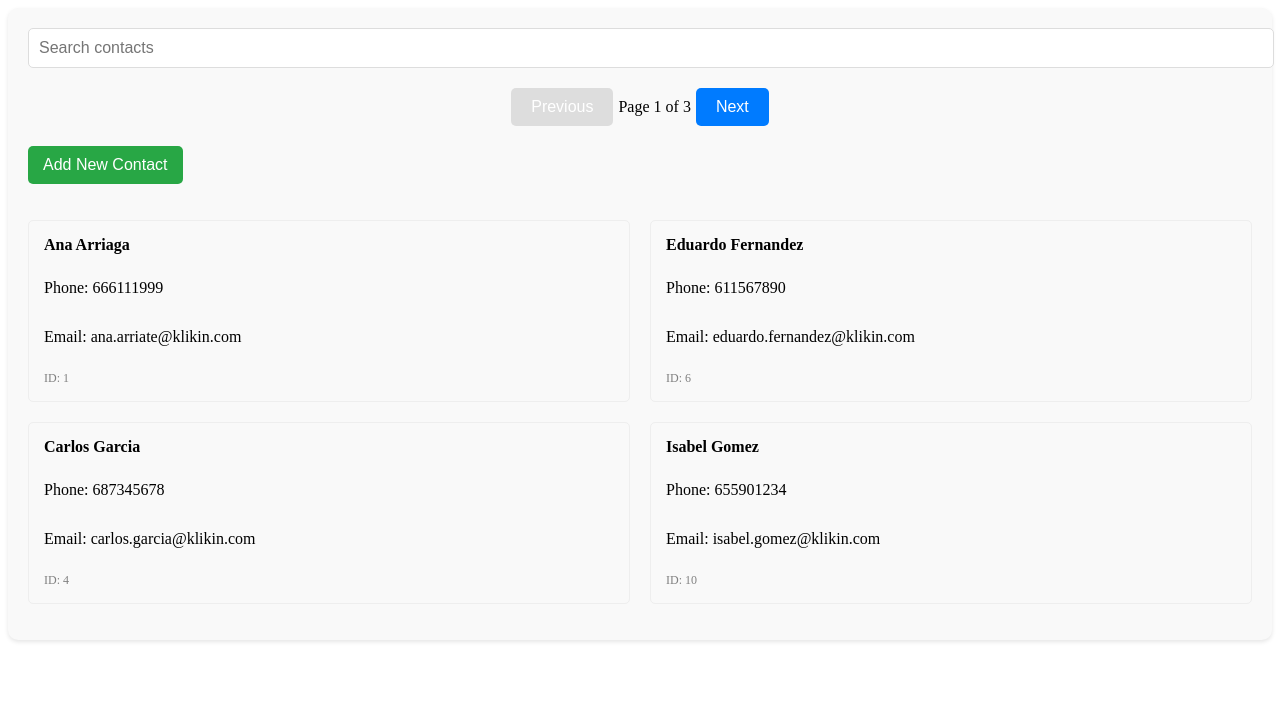
Contact List › allows closing the add contact dialog
This screenshot has width=1280, height=720.
Click the button with class "contact-list__dialog-button": (106, 165) [28,146,183,184]
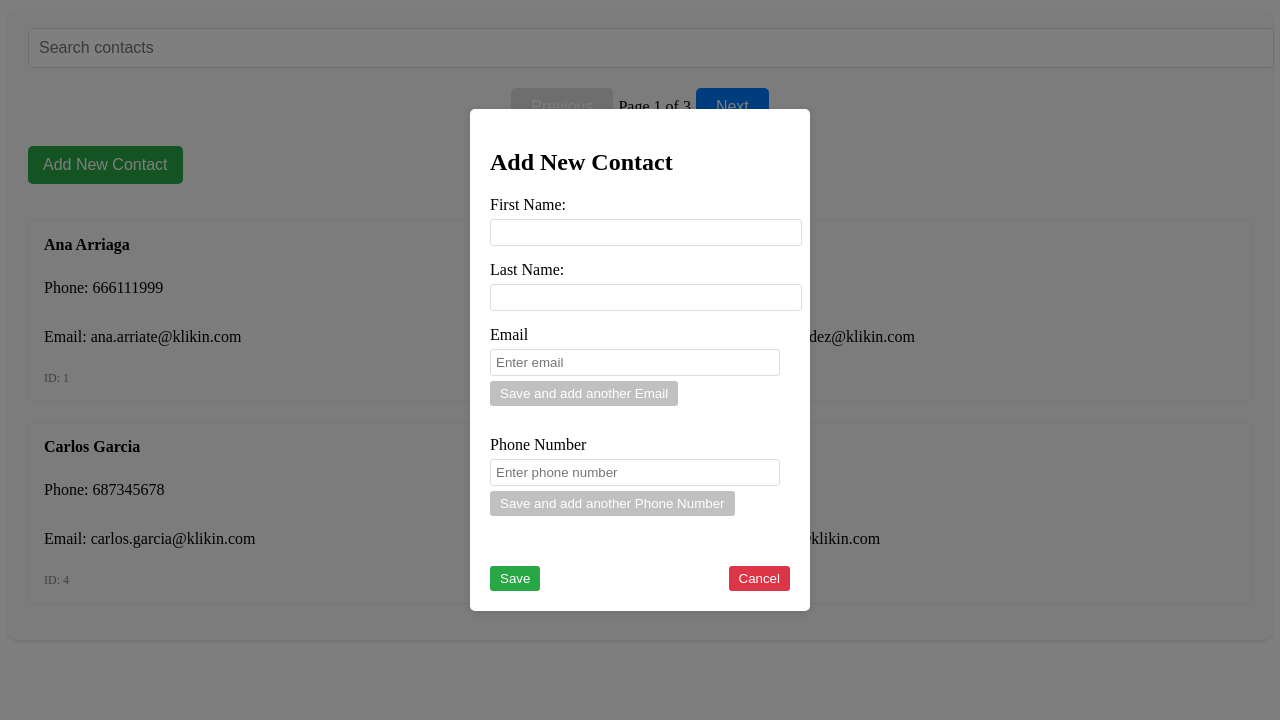
Click the button with class "contact-list__cancel-button": (760, 579) [729,566,791,591]
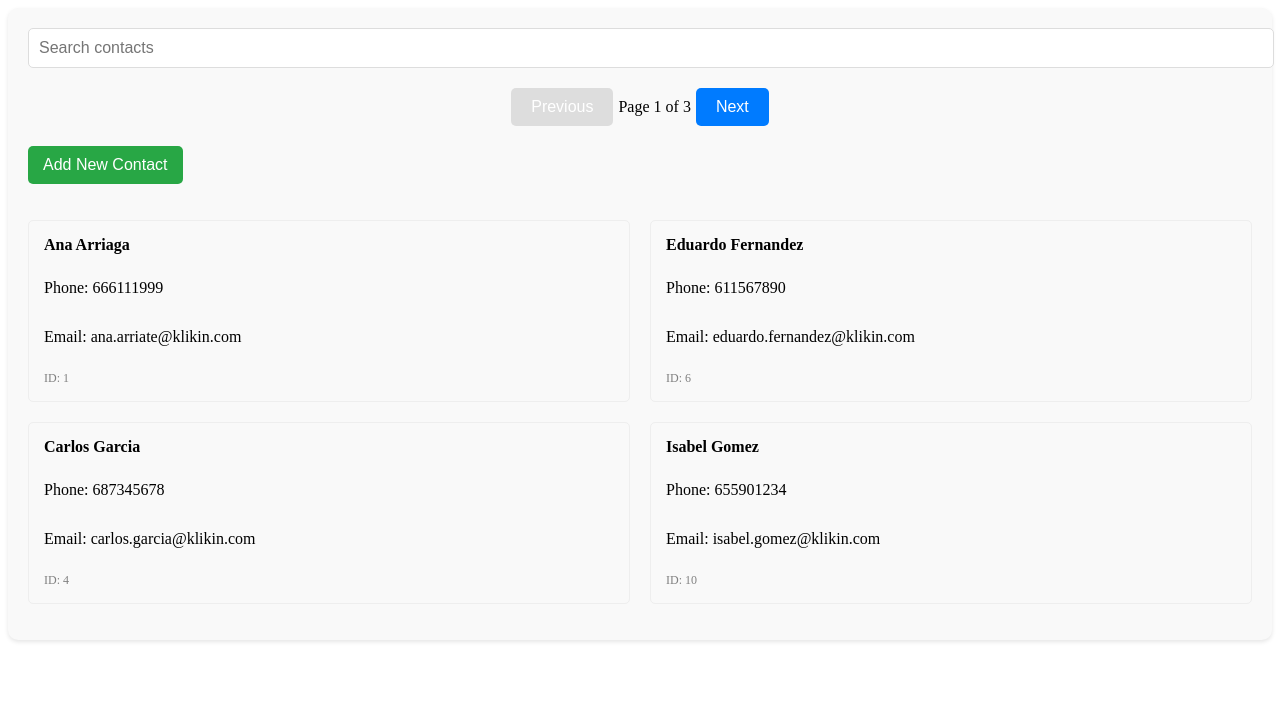
Now the element with class "contact-list__dialog" is gone
